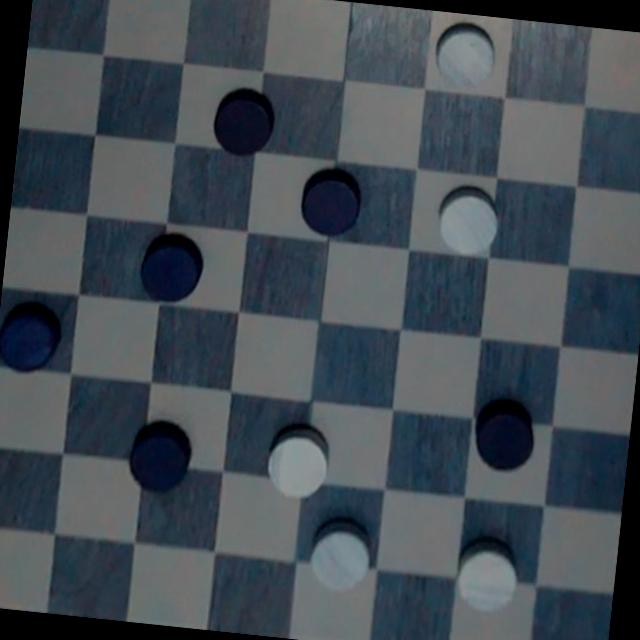BOARD: (0, 0, 640, 640)
black: (123, 414, 205, 508), (465, 392, 550, 478), (130, 223, 210, 310), (207, 76, 284, 166), (293, 160, 372, 244), (0, 299, 62, 382)
white: (300, 515, 390, 610), (254, 413, 332, 506), (450, 532, 528, 618), (428, 180, 508, 262), (429, 17, 502, 94)
